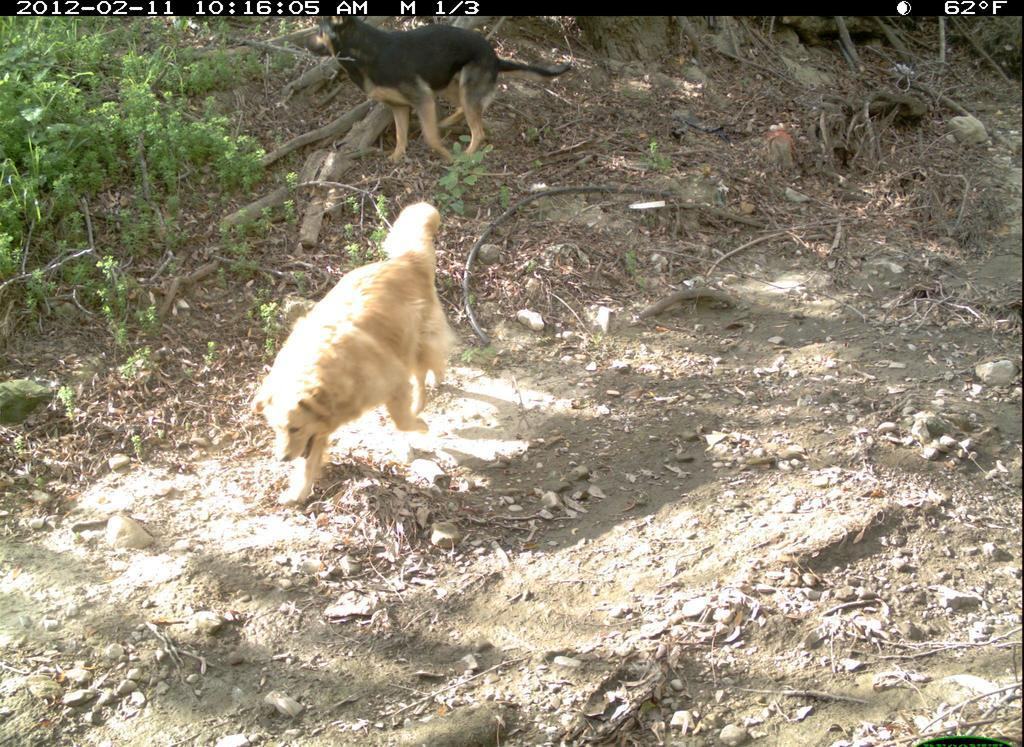dog: (240, 177, 488, 521), (305, 13, 578, 169)
